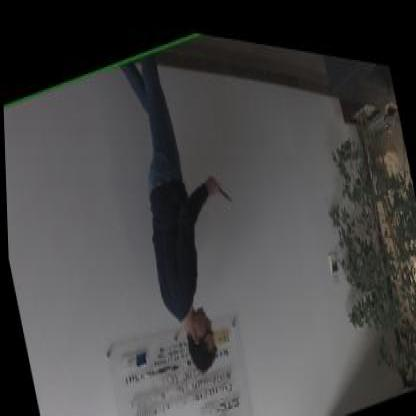knife: (210, 160, 233, 201)
